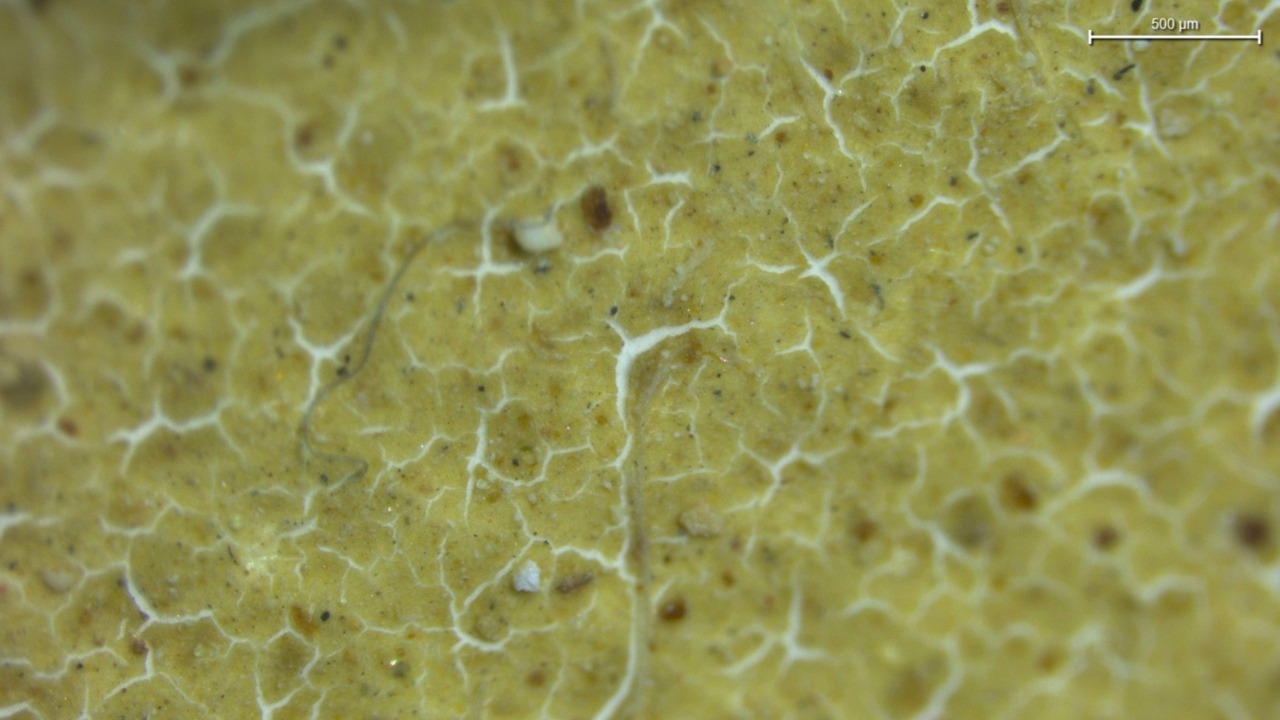microplastic_fragment: (507, 217, 563, 255), (678, 504, 723, 537), (513, 561, 540, 592)
